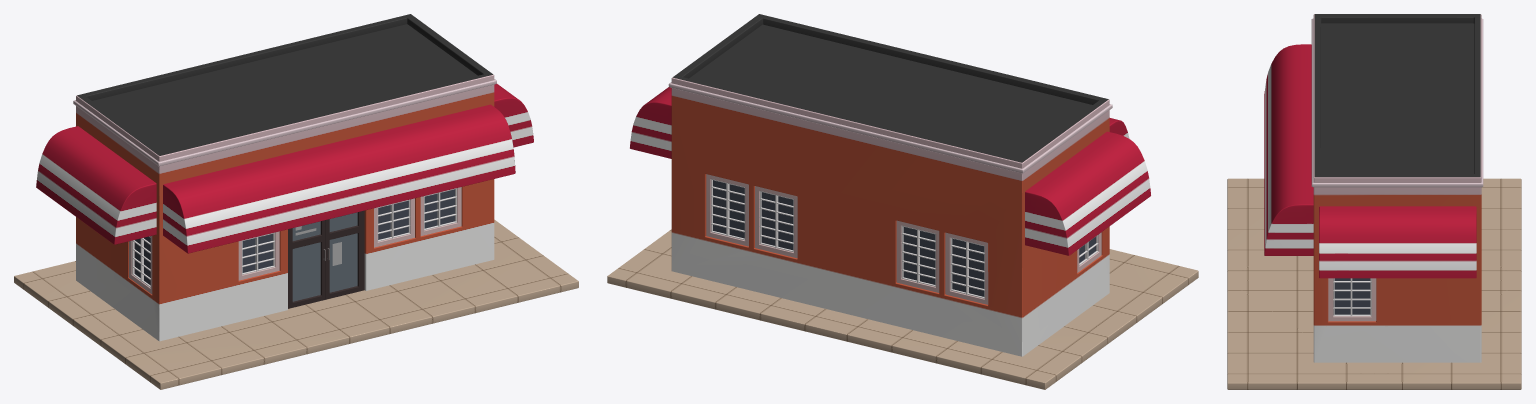
Rendered from Convenience Store.glb.
3 renders of one model, left to right at view 1: azimuth 30°, elevation 25°; view 2: azimuth 150°, elevation 25°; view 3: azimuth 270°, elevation 25°, orthographic. The views are drawn at different scales.
Visible parts, largest first — view 1: store.1; view 2: store.1; view 3: store.1.
Boxes of the visible parts, left/top/right/bottom form: store.1: left=14, top=14, right=578, bottom=389; store.1: left=607, top=14, right=1198, bottom=389; store.1: left=1227, top=14, right=1521, bottom=389.
Bounding box in the file's own units: 8.87 × 3.87 × 5.37.
1 material, 1 textured.
